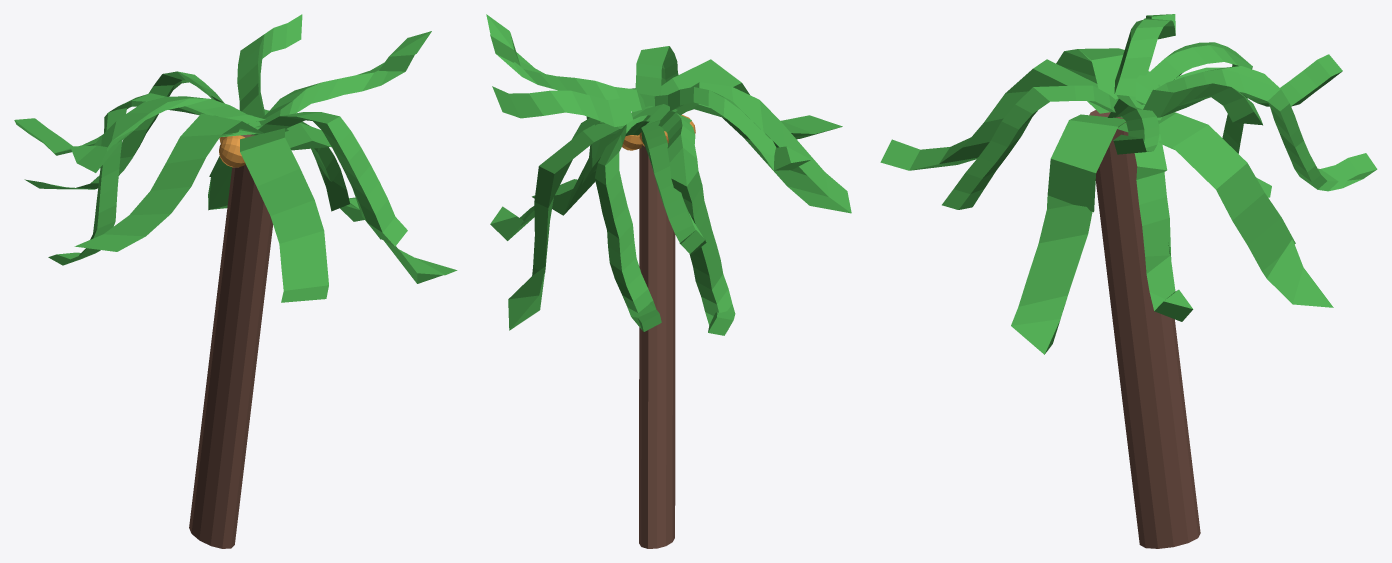
Rendered from palmtree.obj.
3 renders of one model, left to right at view 1: azimuth 30°, elevation 25°; view 2: azimuth 150°, elevation 25°; view 3: azimuth 270°, elevation 25°, orthographic. The views are drawn at different scales.
Visible parts, largest first — view 1: group355623538, group1041637316, group34800269, group311692419, group688583858, group697093927, group526812730, group1340146973, group1319917614, group1995046267, group250421346, group1268797991 (+2 smaller); view 2: group355623538, group526812730, group1319917614, group34800269, group204855513, group1340146973, group697093927, group688583858, group1268797991, group1041637316, group311692419, group1995046267 (+1 smaller); view 3: group355623538, group1995046267, group204855513, group1319917614, group250421346, group311692419, group1041637316, group526812730, group697093927, group1340146973, group34800269, group688583858 (+1 smaller).
Part boxes in pixels (x1=…): group355623538: x1=189, y1=134, x2=272, y2=548; group1041637316: x1=240, y1=128, x2=328, y2=302; group34800269: x1=74, y1=113, x2=263, y2=251; group311692419: x1=251, y1=112, x2=407, y2=246; group688583858: x1=259, y1=31, x2=431, y2=125; group697093927: x1=70, y1=96, x2=265, y2=172; group526812730: x1=48, y1=93, x2=217, y2=265; group1340146973: x1=237, y1=14, x2=302, y2=117; group1319917614: x1=24, y1=71, x2=224, y2=189; group1995046267: x1=285, y1=123, x2=457, y2=283; group250421346: x1=300, y1=121, x2=364, y2=221; group1268797991: x1=14, y1=107, x2=197, y2=155; group355623538: x1=639, y1=144, x2=675, y2=548; group526812730: x1=658, y1=110, x2=735, y2=335; group1319917614: x1=594, y1=115, x2=661, y2=331; group34800269: x1=676, y1=82, x2=851, y2=213; group204855513: x1=508, y1=123, x2=623, y2=330; group1340146973: x1=492, y1=86, x2=633, y2=126; group697093927: x1=654, y1=87, x2=810, y2=170; group688583858: x1=486, y1=14, x2=645, y2=111; group1268797991: x1=641, y1=120, x2=706, y2=254; group1041637316: x1=661, y1=59, x2=842, y2=139; group311692419: x1=635, y1=46, x2=678, y2=107; group1995046267: x1=532, y1=88, x2=635, y2=215; group355623538: x1=1089, y1=110, x2=1200, y2=548; group1995046267: x1=1011, y1=114, x2=1125, y2=354; group204855513: x1=1117, y1=112, x2=1333, y2=307; group1319917614: x1=1151, y1=66, x2=1377, y2=191; group250421346: x1=1134, y1=130, x2=1193, y2=321; group311692419: x1=942, y1=85, x2=1122, y2=209; group1041637316: x1=880, y1=59, x2=1109, y2=170; group526812730: x1=1145, y1=42, x2=1271, y2=197; group697093927: x1=1114, y1=14, x2=1175, y2=96; group1340146973: x1=1143, y1=83, x2=1262, y2=125; group34800269: x1=1056, y1=48, x2=1124, y2=99; group688583858: x1=1107, y1=98, x2=1159, y2=154.
Bounding box in the file's own units: 1 × 1.25 × 1.1.
